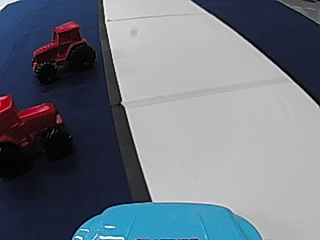tractor: (0, 93, 74, 172), (29, 19, 95, 83)
